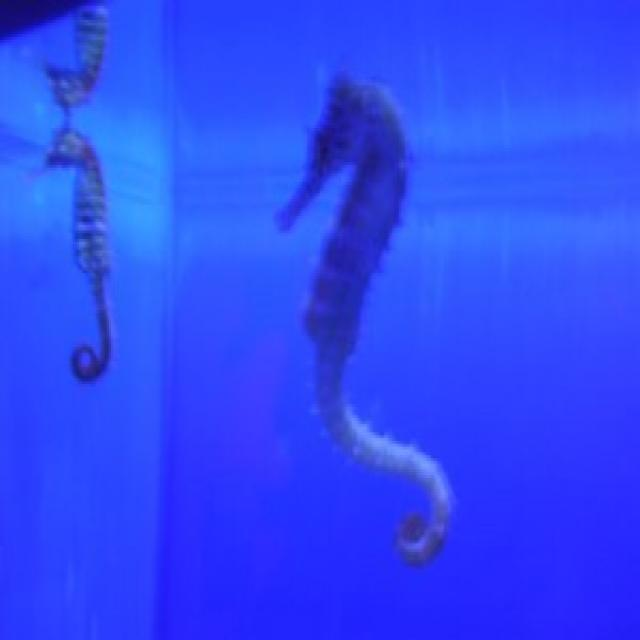Seahorse: (273, 61, 460, 571)
